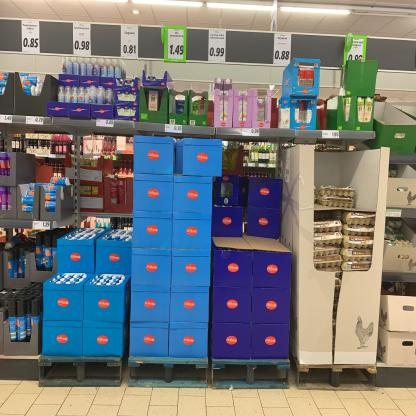prtg: (22, 21, 41, 54), (74, 24, 92, 57), (209, 31, 227, 63), (275, 35, 293, 67), (122, 27, 139, 59), (169, 30, 185, 61), (348, 39, 365, 61), (27, 117, 45, 126), (97, 119, 115, 128), (166, 125, 183, 134), (243, 130, 260, 138), (323, 131, 340, 139), (34, 222, 51, 230), (1, 116, 13, 124)
